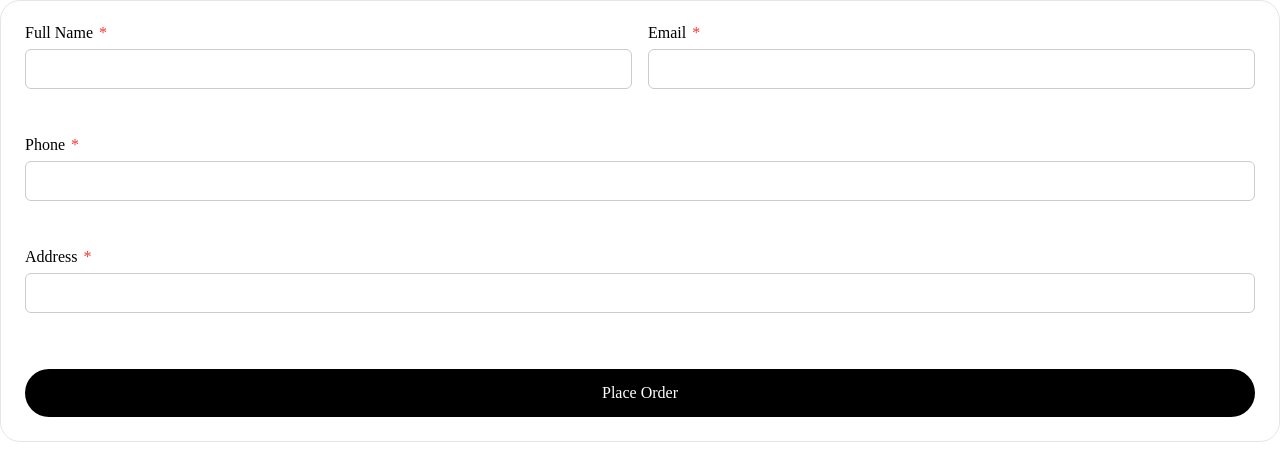
Test: CheckoutForm › validation › shows format and business-rule errors for invalid values
Type "John1" into the field labelled "Full Name *".
click(328, 69); type("John1")  # box [25,49,632,89]
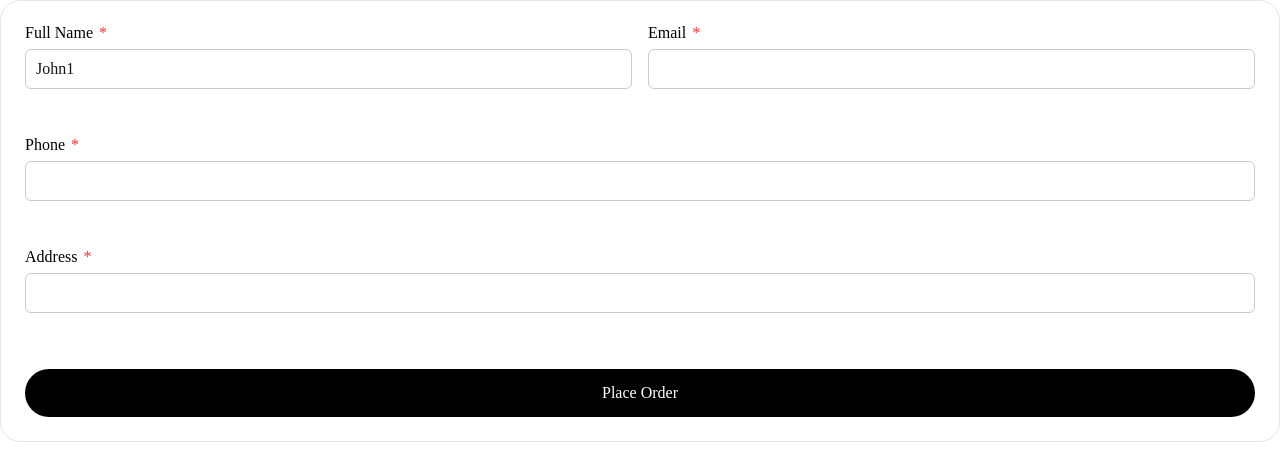
Type "john" into the field labelled "Email *".
click(952, 69); type("john")  # box [648,49,1255,89]
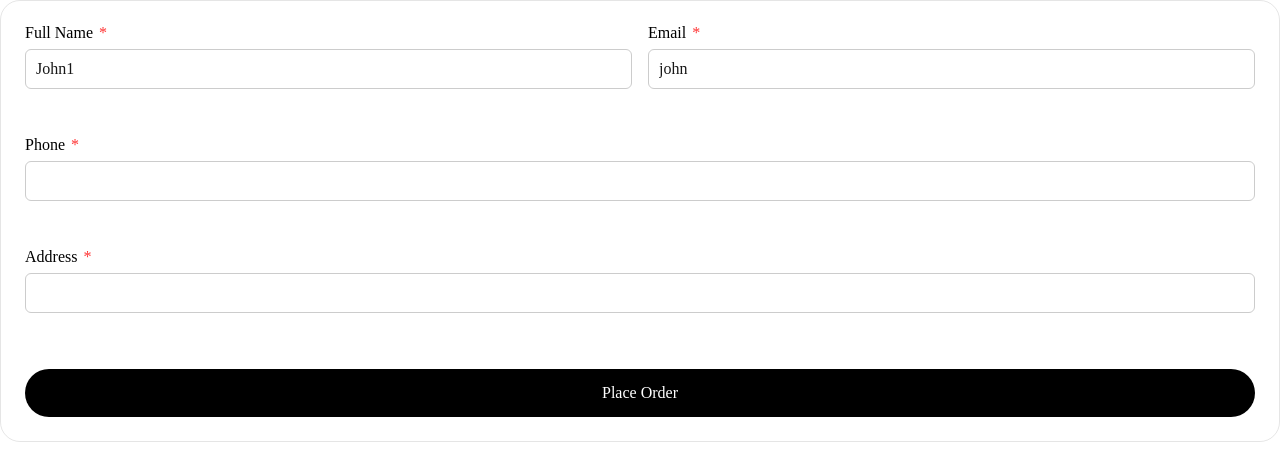
Type "123" into the field labelled "Phone *".
click(640, 181); type("123")  # box [25,161,1255,201]
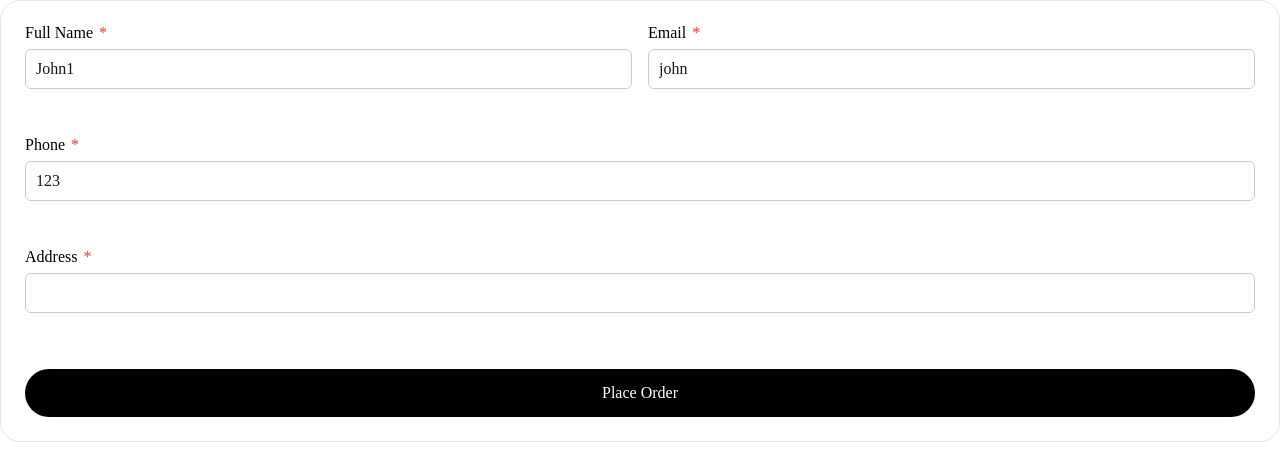
Type "##" into the field labelled "Address *".
click(640, 293); type("##")  # box [25,273,1255,313]
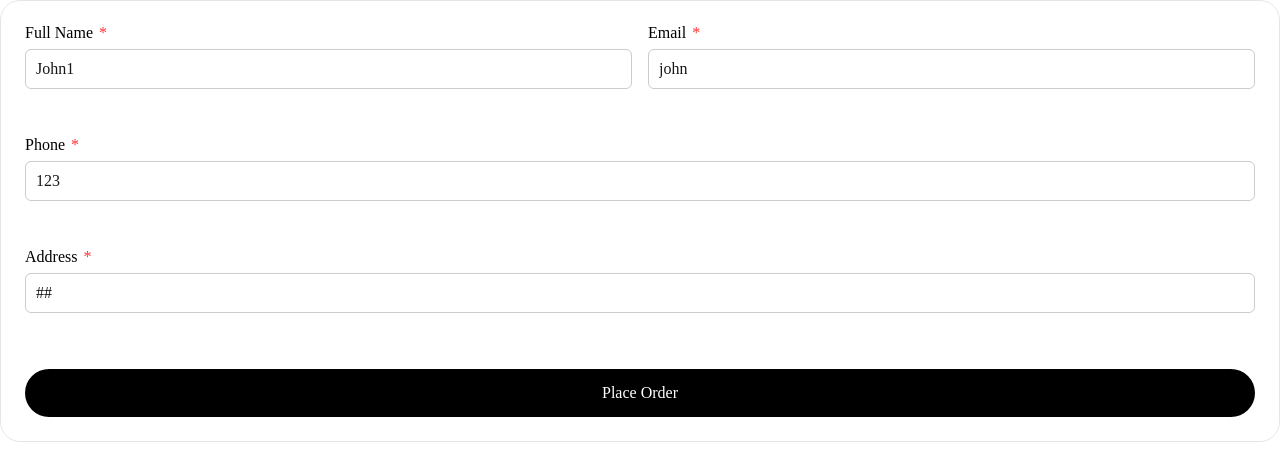
Click the button "Place Order".
click(640, 393)  # box [25,369,1255,417]
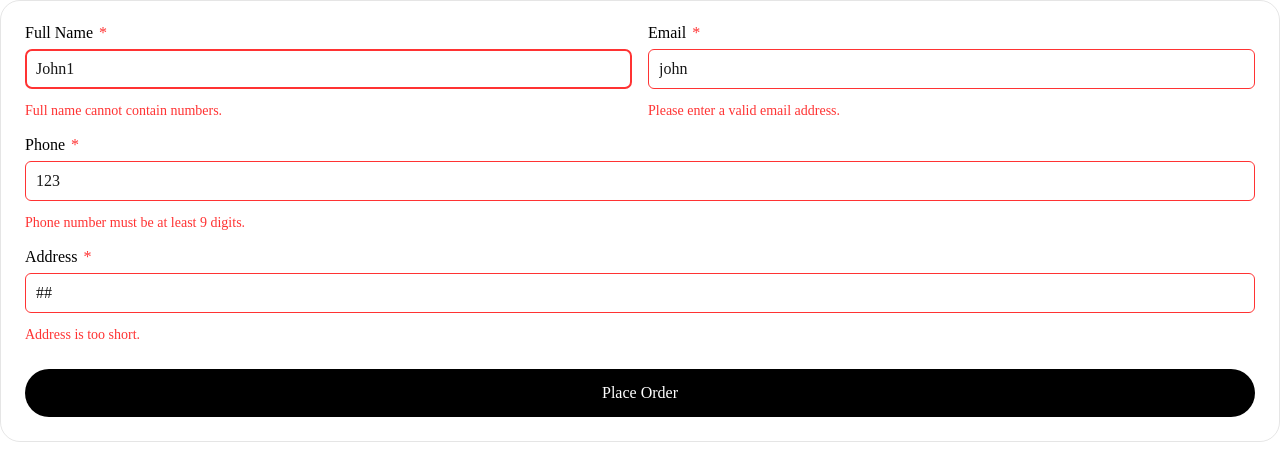
Check: the text "Full name cannot contain numbers." is shown, box [25,103,222,118]
Check: the text "Please enter a valid email address." is shown, box [648,103,840,118]
Check: the text "Phone number must be at least 9 digits." is shown, box [25,215,245,230]
